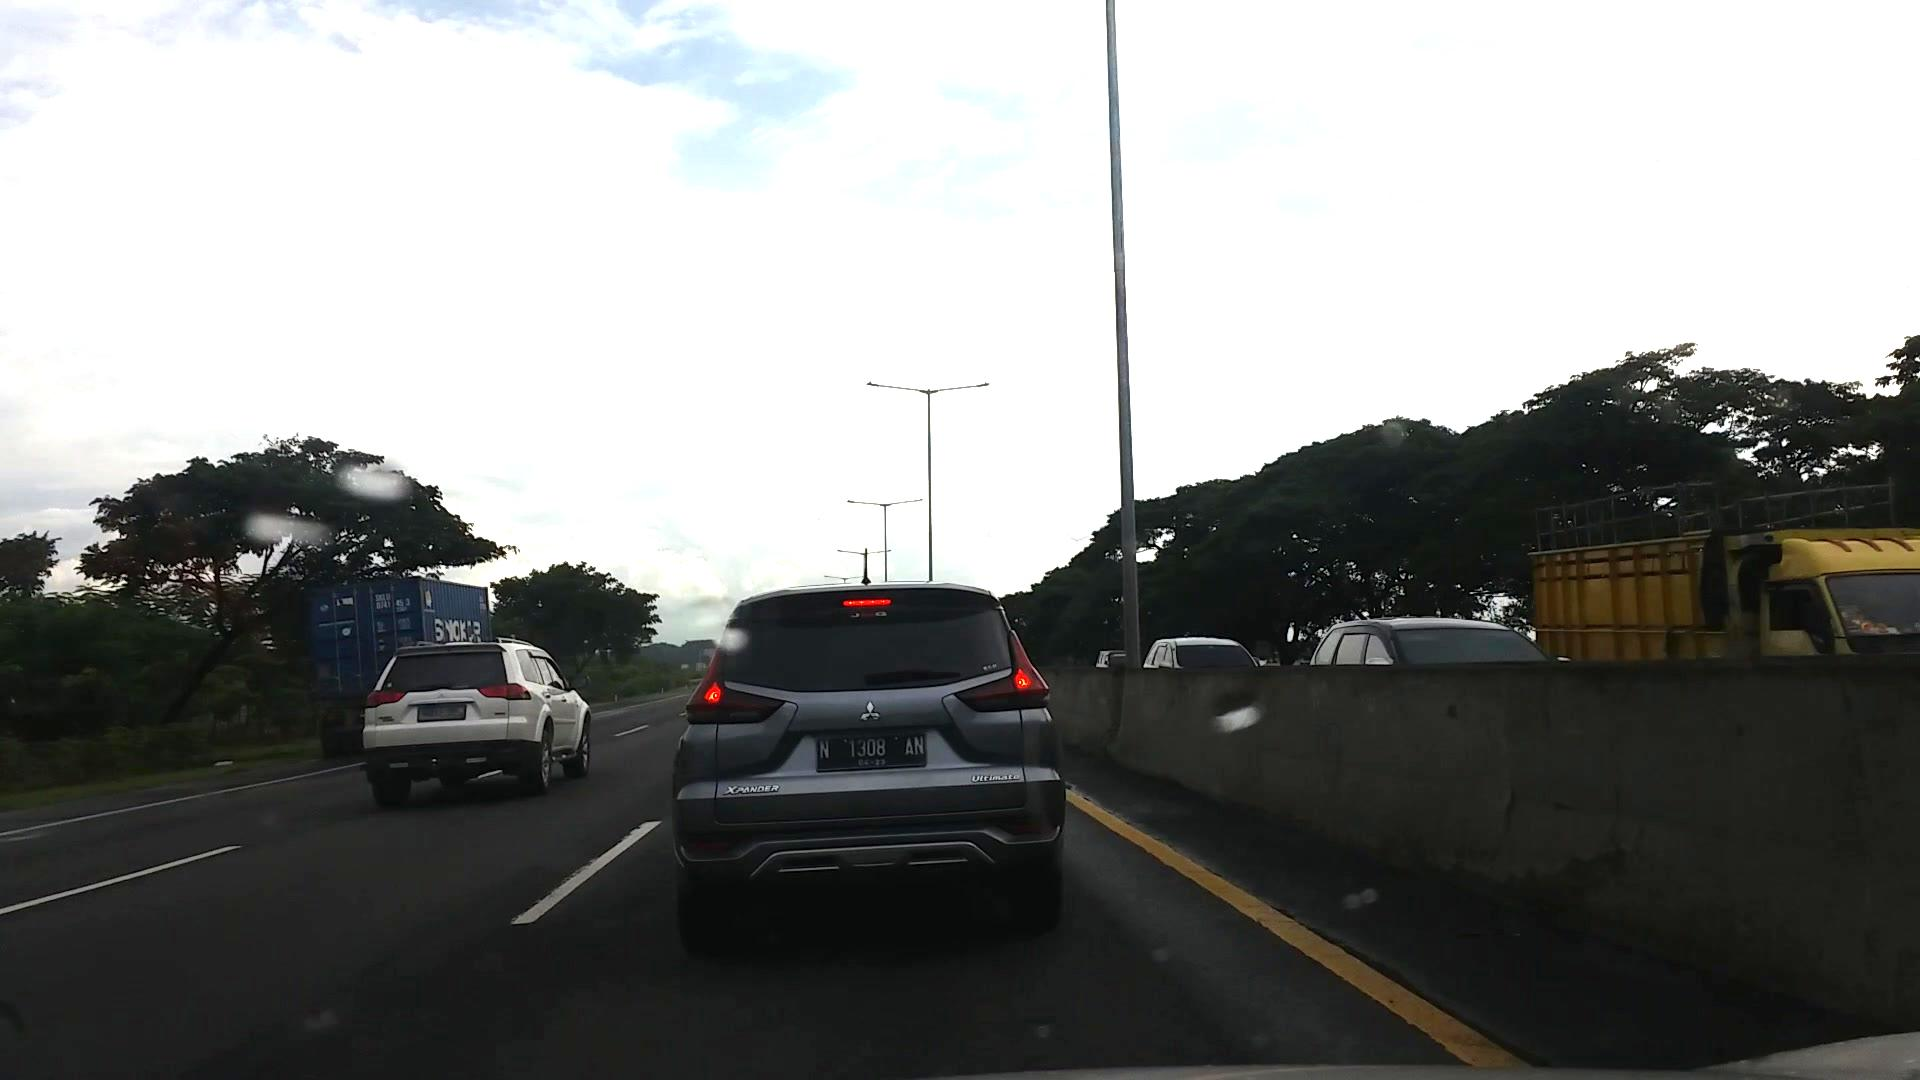plate_positive: (816, 733, 926, 771)
